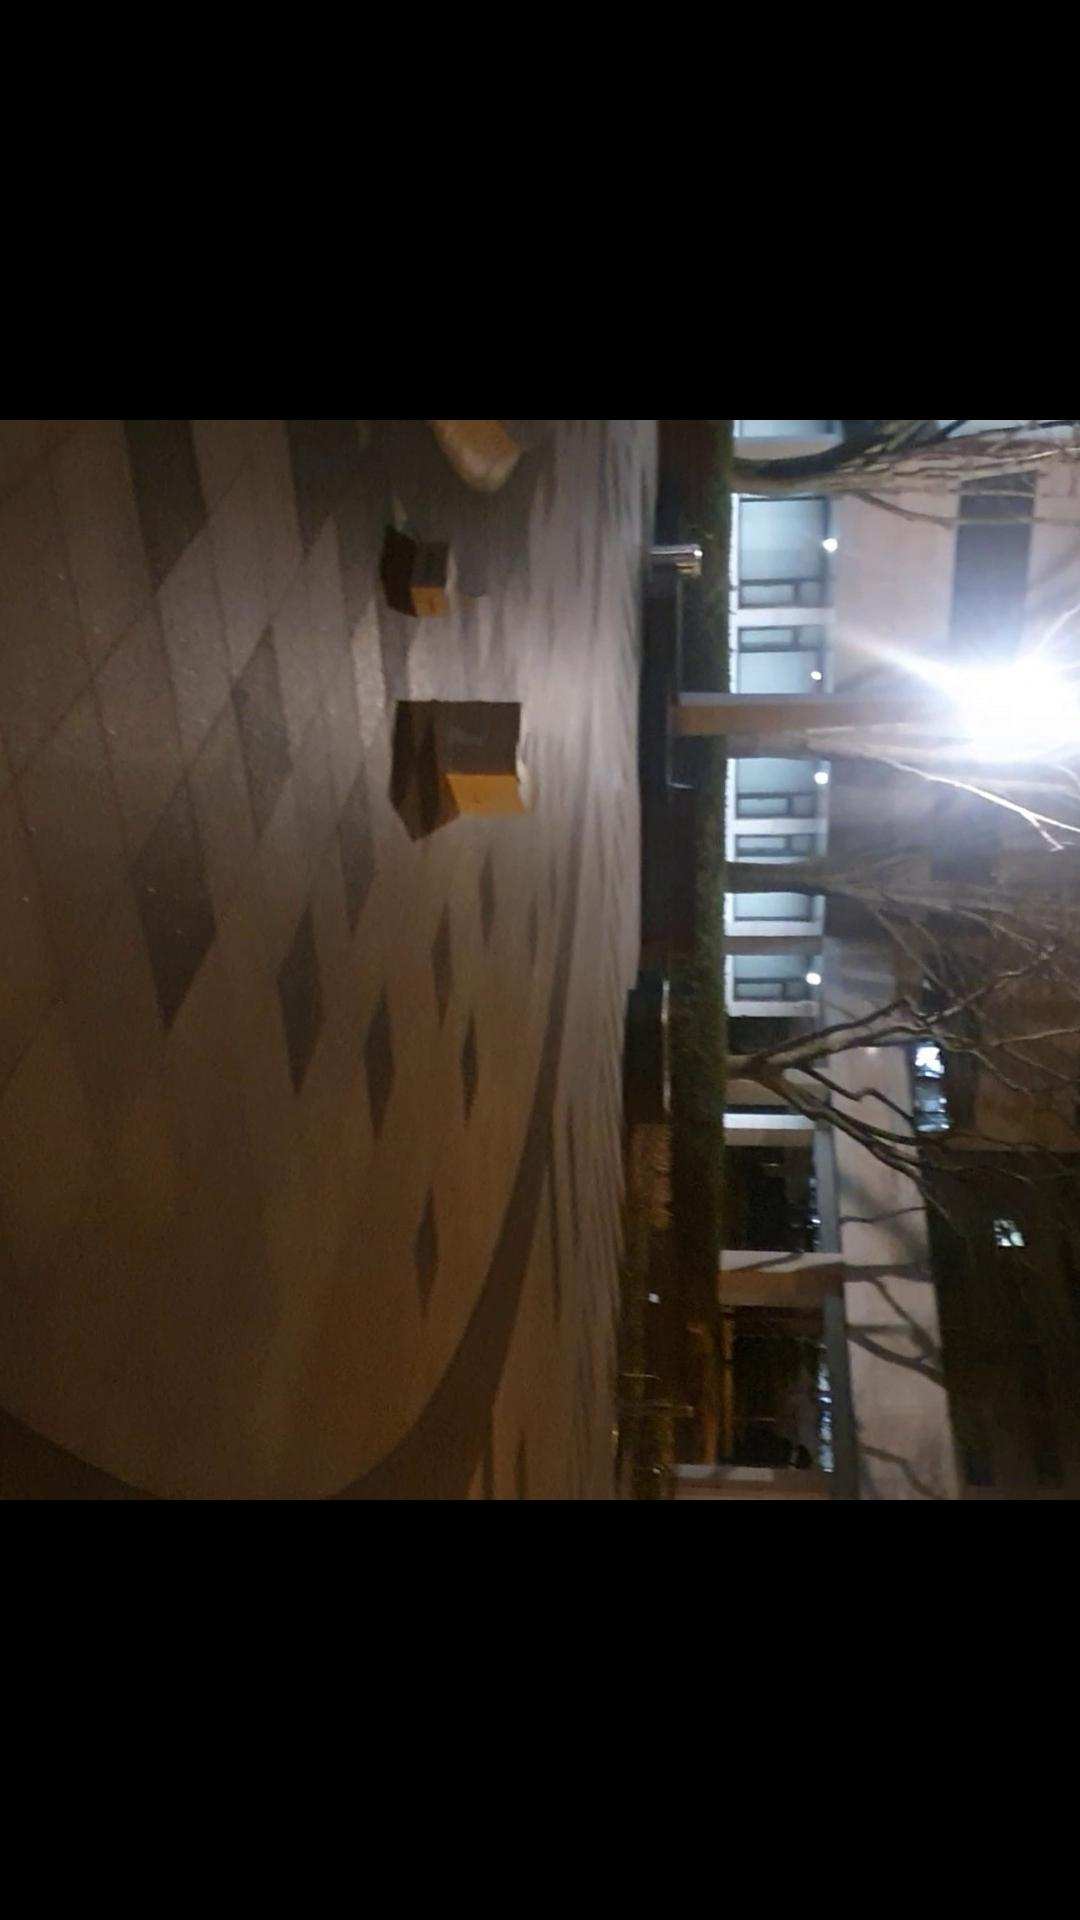Box: (417, 686, 531, 823), (405, 549, 452, 620)
